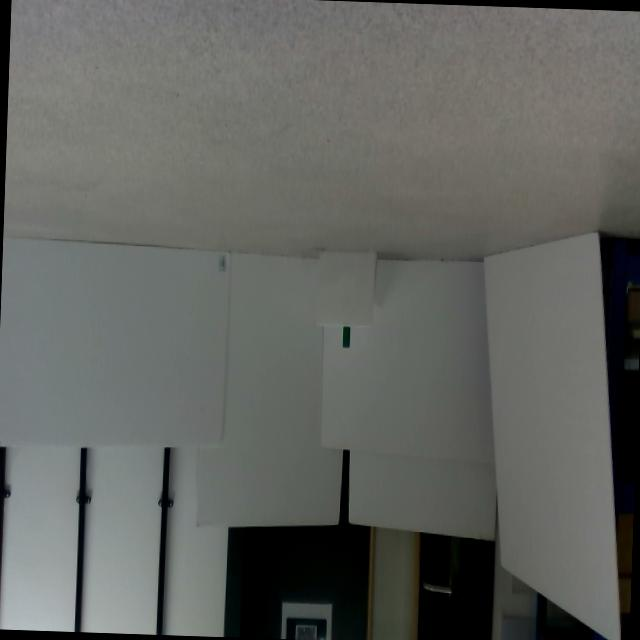green_cylinder: (342, 326, 350, 348)
